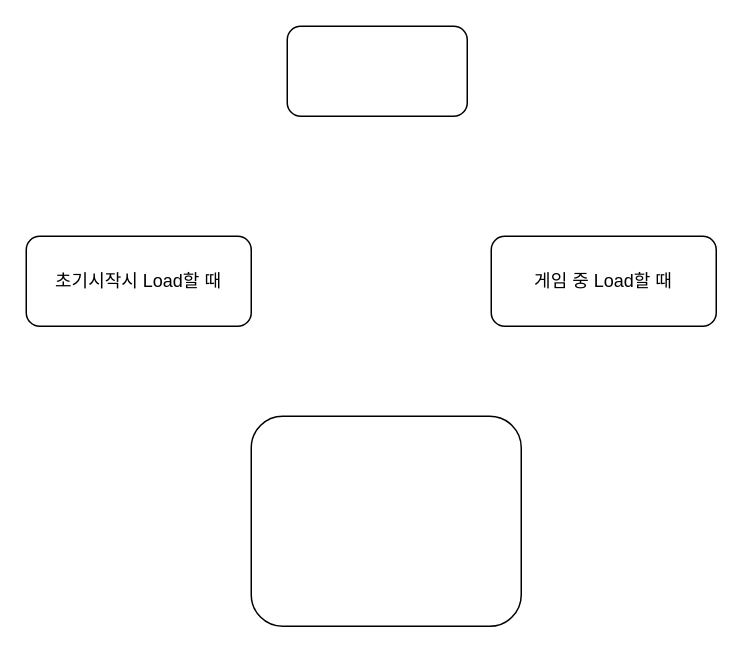
This 743x653 diagram has some shape labels left out. Here are the shapes that lost their labels. From the top down, the centre of each, then its label:
pixel 376 70: 저장할 때
pixel 385 520: Json으로 저장될 데이터는 반드시 직렬화 되어있어야 Json으로 저장이 가능하다
